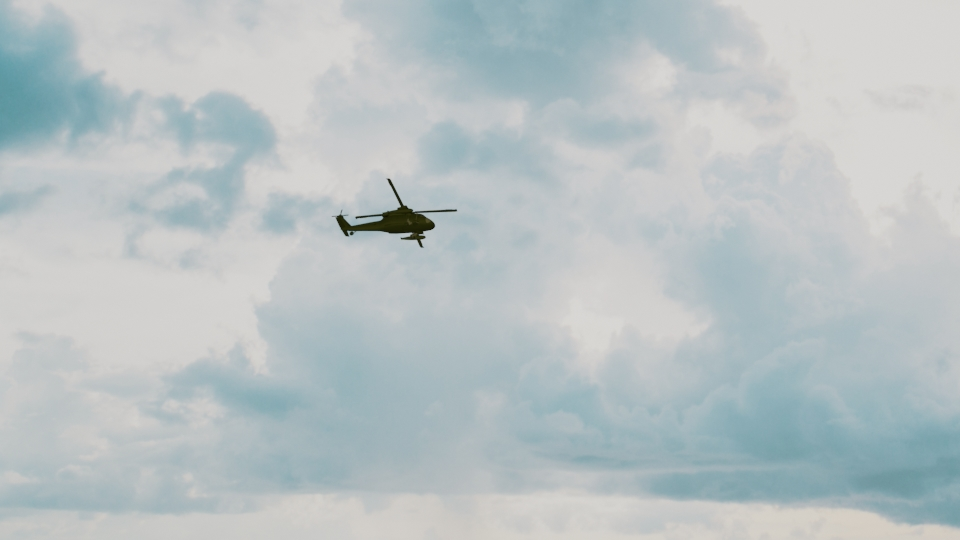heli: (331, 176, 457, 249)
